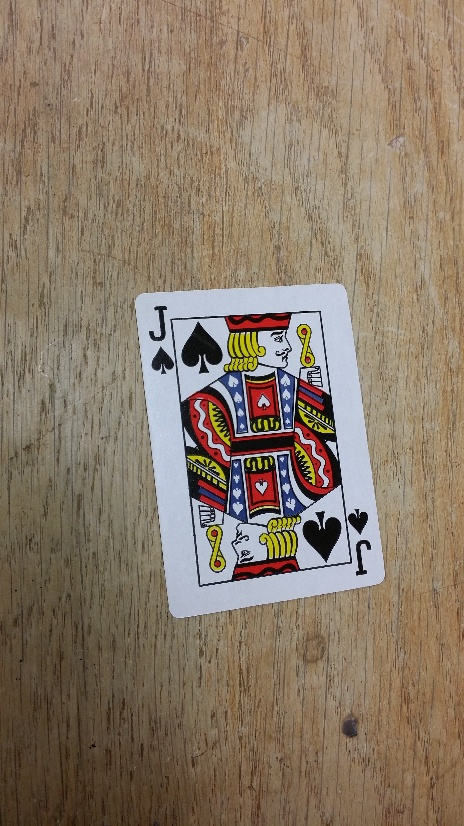Sj: (140, 297, 175, 375), (346, 504, 378, 580)
